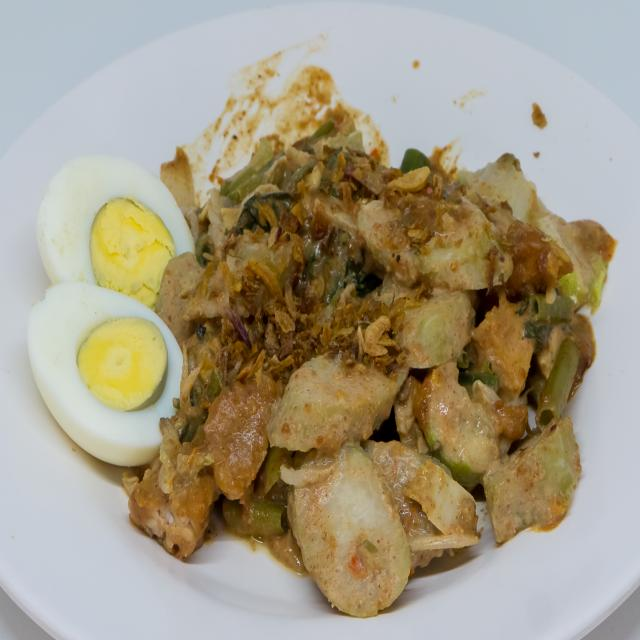Gado-Gado: (26, 105, 610, 627)
